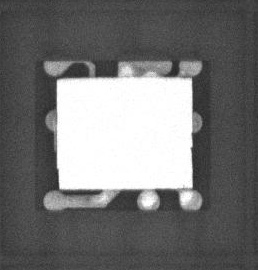DIE_BROKEN: (55, 167, 60, 191)
